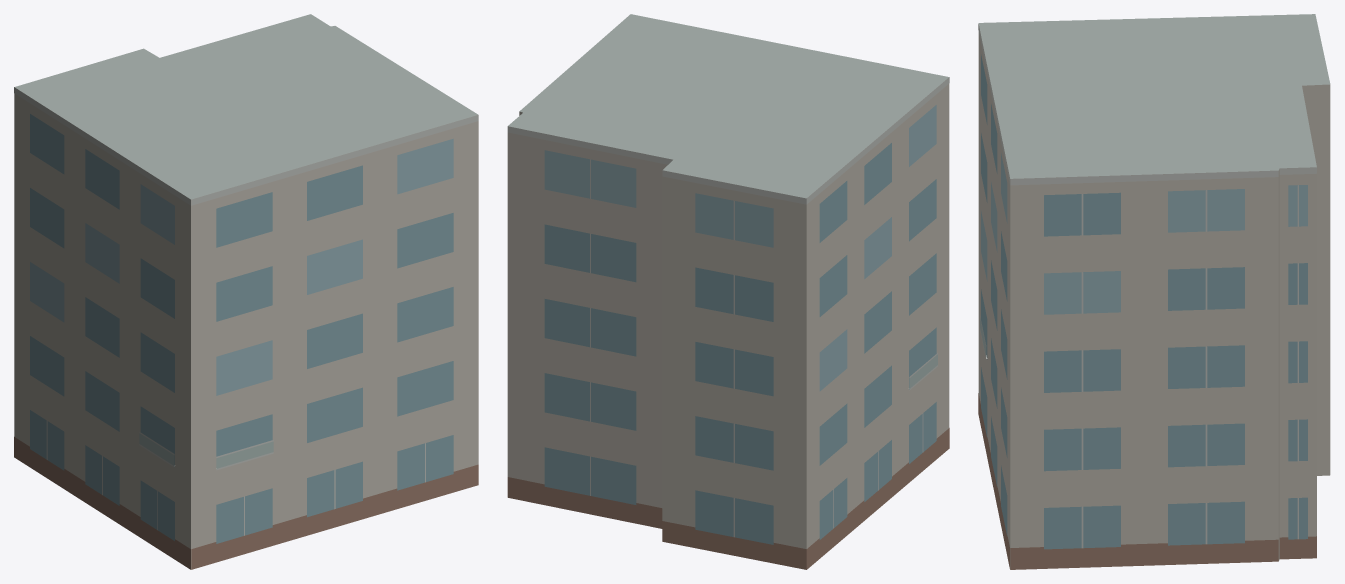
The model's file is survey-upis-32776906.glb.
The picture shows the model from 3 angles, left to right: view 1: azimuth 30°, elevation 25°; view 2: azimuth 150°, elevation 25°; view 3: azimuth 270°, elevation 25°; orthographic projection. The views are drawn at different scales.
Visible parts, largest first — view 1: survey-upis-32776906.tmp; view 2: survey-upis-32776906.tmp; view 3: survey-upis-32776906.tmp.
Part boxes in pixels (box(x1,y1,x2,y2)): survey-upis-32776906.tmp: box(14, 14, 478, 569); survey-upis-32776906.tmp: box(507, 14, 949, 569); survey-upis-32776906.tmp: box(978, 14, 1330, 569).
Size of the model in its own units: 13.21 by 14.6 by 11.92.
